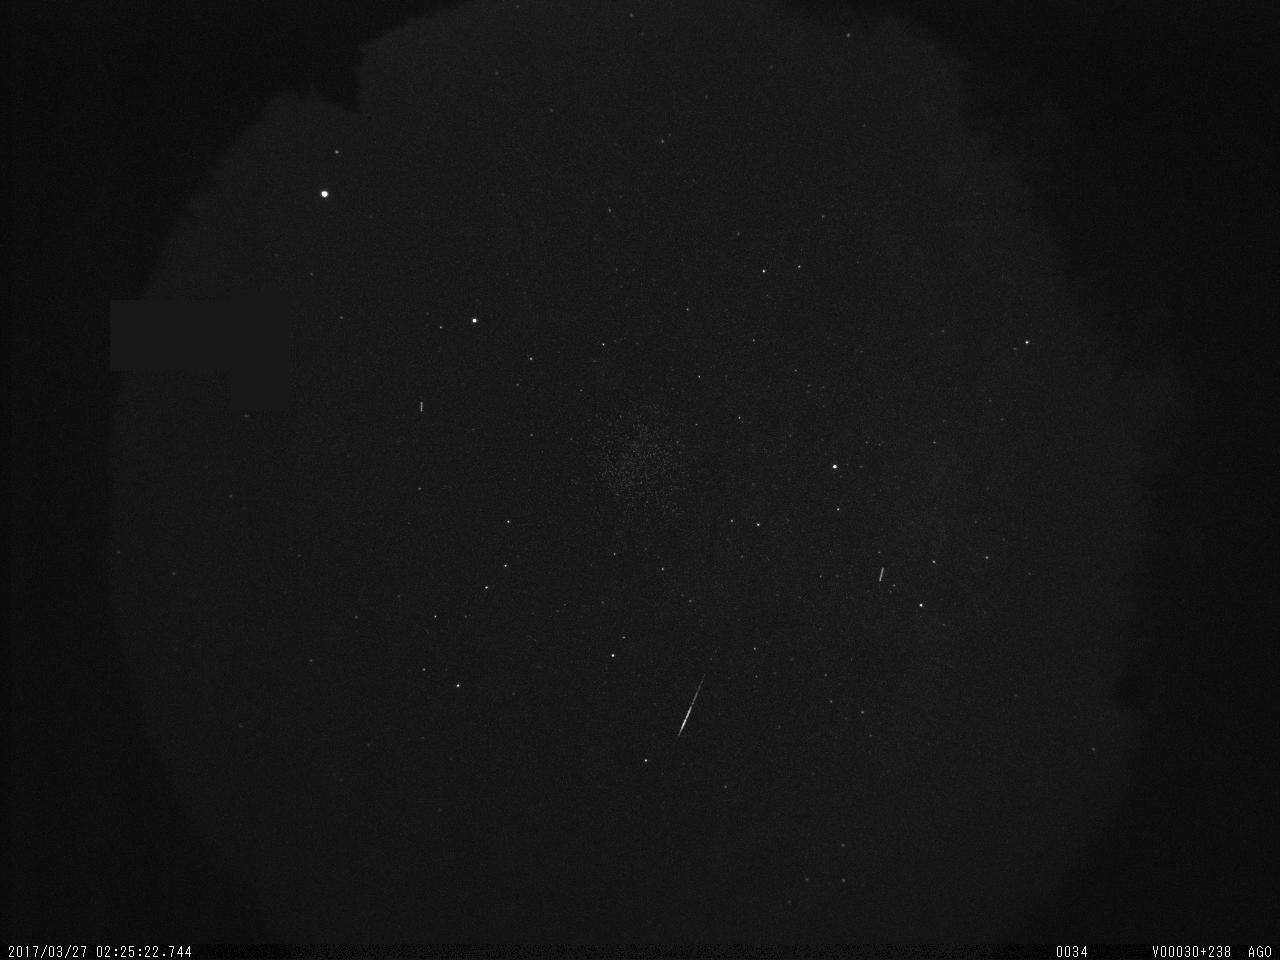meteor: (675, 643, 716, 745)
